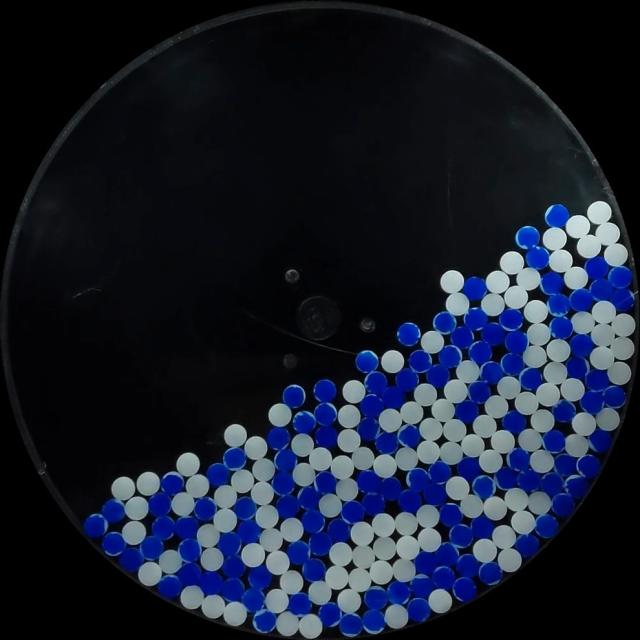pmmma-blanca: (377, 406, 405, 433), (371, 512, 397, 538), (318, 492, 344, 518), (121, 520, 148, 545), (194, 522, 221, 547), (398, 400, 426, 424), (395, 534, 420, 560), (478, 449, 504, 474), (510, 509, 536, 534), (503, 488, 529, 513), (589, 322, 615, 347), (428, 588, 454, 613), (497, 547, 523, 572), (137, 561, 163, 586), (589, 345, 615, 370), (373, 453, 398, 478), (266, 549, 291, 574), (265, 588, 290, 613), (591, 300, 616, 325), (611, 313, 636, 338), (158, 549, 183, 574), (224, 601, 249, 626), (276, 611, 301, 636), (530, 449, 555, 474), (325, 564, 350, 589), (482, 496, 507, 521), (416, 440, 442, 464), (472, 538, 498, 562), (560, 378, 586, 402), (214, 484, 238, 510), (490, 429, 516, 453), (444, 378, 468, 404), (571, 412, 597, 436), (214, 506, 238, 532), (124, 496, 150, 520), (111, 476, 137, 500), (548, 249, 574, 273), (420, 330, 446, 354), (384, 604, 410, 628), (415, 504, 441, 528), (352, 545, 378, 569), (490, 525, 517, 548), (587, 200, 612, 224), (417, 527, 442, 551), (442, 418, 467, 442), (331, 455, 356, 479), (329, 543, 354, 567), (252, 480, 276, 505), (372, 536, 397, 560), (242, 542, 266, 567), (201, 594, 226, 618), (577, 234, 602, 258), (176, 452, 201, 476), (337, 588, 362, 612), (419, 418, 444, 442), (369, 560, 394, 584), (186, 473, 210, 498), (180, 585, 205, 609), (596, 408, 621, 432), (439, 442, 464, 466), (230, 469, 254, 494), (460, 434, 486, 457), (499, 251, 525, 274), (310, 447, 334, 471), (299, 614, 323, 638), (515, 391, 539, 415), (446, 476, 470, 500), (497, 375, 521, 399), (484, 394, 508, 418), (536, 382, 560, 406), (440, 270, 464, 294), (342, 379, 366, 403), (348, 567, 372, 591), (200, 547, 224, 571), (524, 300, 548, 324), (309, 580, 333, 604), (224, 423, 248, 447), (527, 322, 551, 346), (504, 284, 528, 308), (524, 345, 548, 369), (608, 361, 632, 385), (564, 266, 588, 290), (137, 472, 161, 496), (171, 492, 195, 516), (604, 243, 629, 266), (268, 403, 293, 426), (413, 383, 438, 406), (530, 409, 555, 432), (337, 404, 362, 427), (595, 222, 620, 245), (516, 267, 541, 290), (445, 292, 470, 315), (291, 462, 316, 485), (391, 558, 416, 581), (351, 521, 374, 546), (542, 228, 568, 250), (393, 446, 419, 468), (542, 362, 569, 383), (566, 215, 590, 238), (486, 270, 510, 293), (547, 339, 571, 362), (482, 292, 505, 316), (300, 612, 323, 636), (611, 337, 635, 360), (518, 267, 542, 290), (548, 248, 571, 272), (456, 358, 480, 381), (291, 433, 315, 456), (460, 495, 483, 519), (334, 477, 358, 500), (256, 504, 280, 527), (519, 428, 544, 450), (429, 398, 454, 420), (530, 489, 552, 514), (253, 457, 276, 480), (245, 436, 268, 459), (381, 350, 405, 372), (565, 433, 589, 455), (474, 414, 498, 436), (260, 528, 284, 550), (572, 310, 594, 333), (352, 446, 374, 469), (394, 513, 416, 536), (339, 429, 360, 452), (282, 569, 303, 592), (283, 516, 303, 540)
